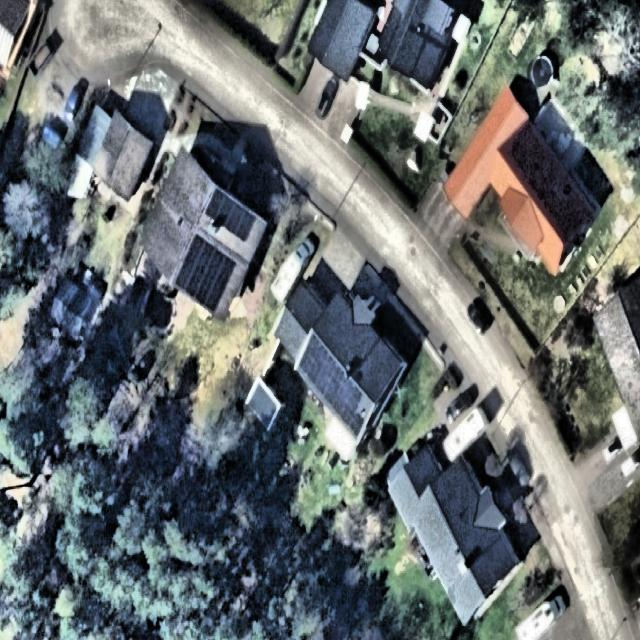roof_pv: (171, 229, 236, 318), (296, 330, 338, 402), (205, 189, 262, 242), (327, 366, 363, 440)
